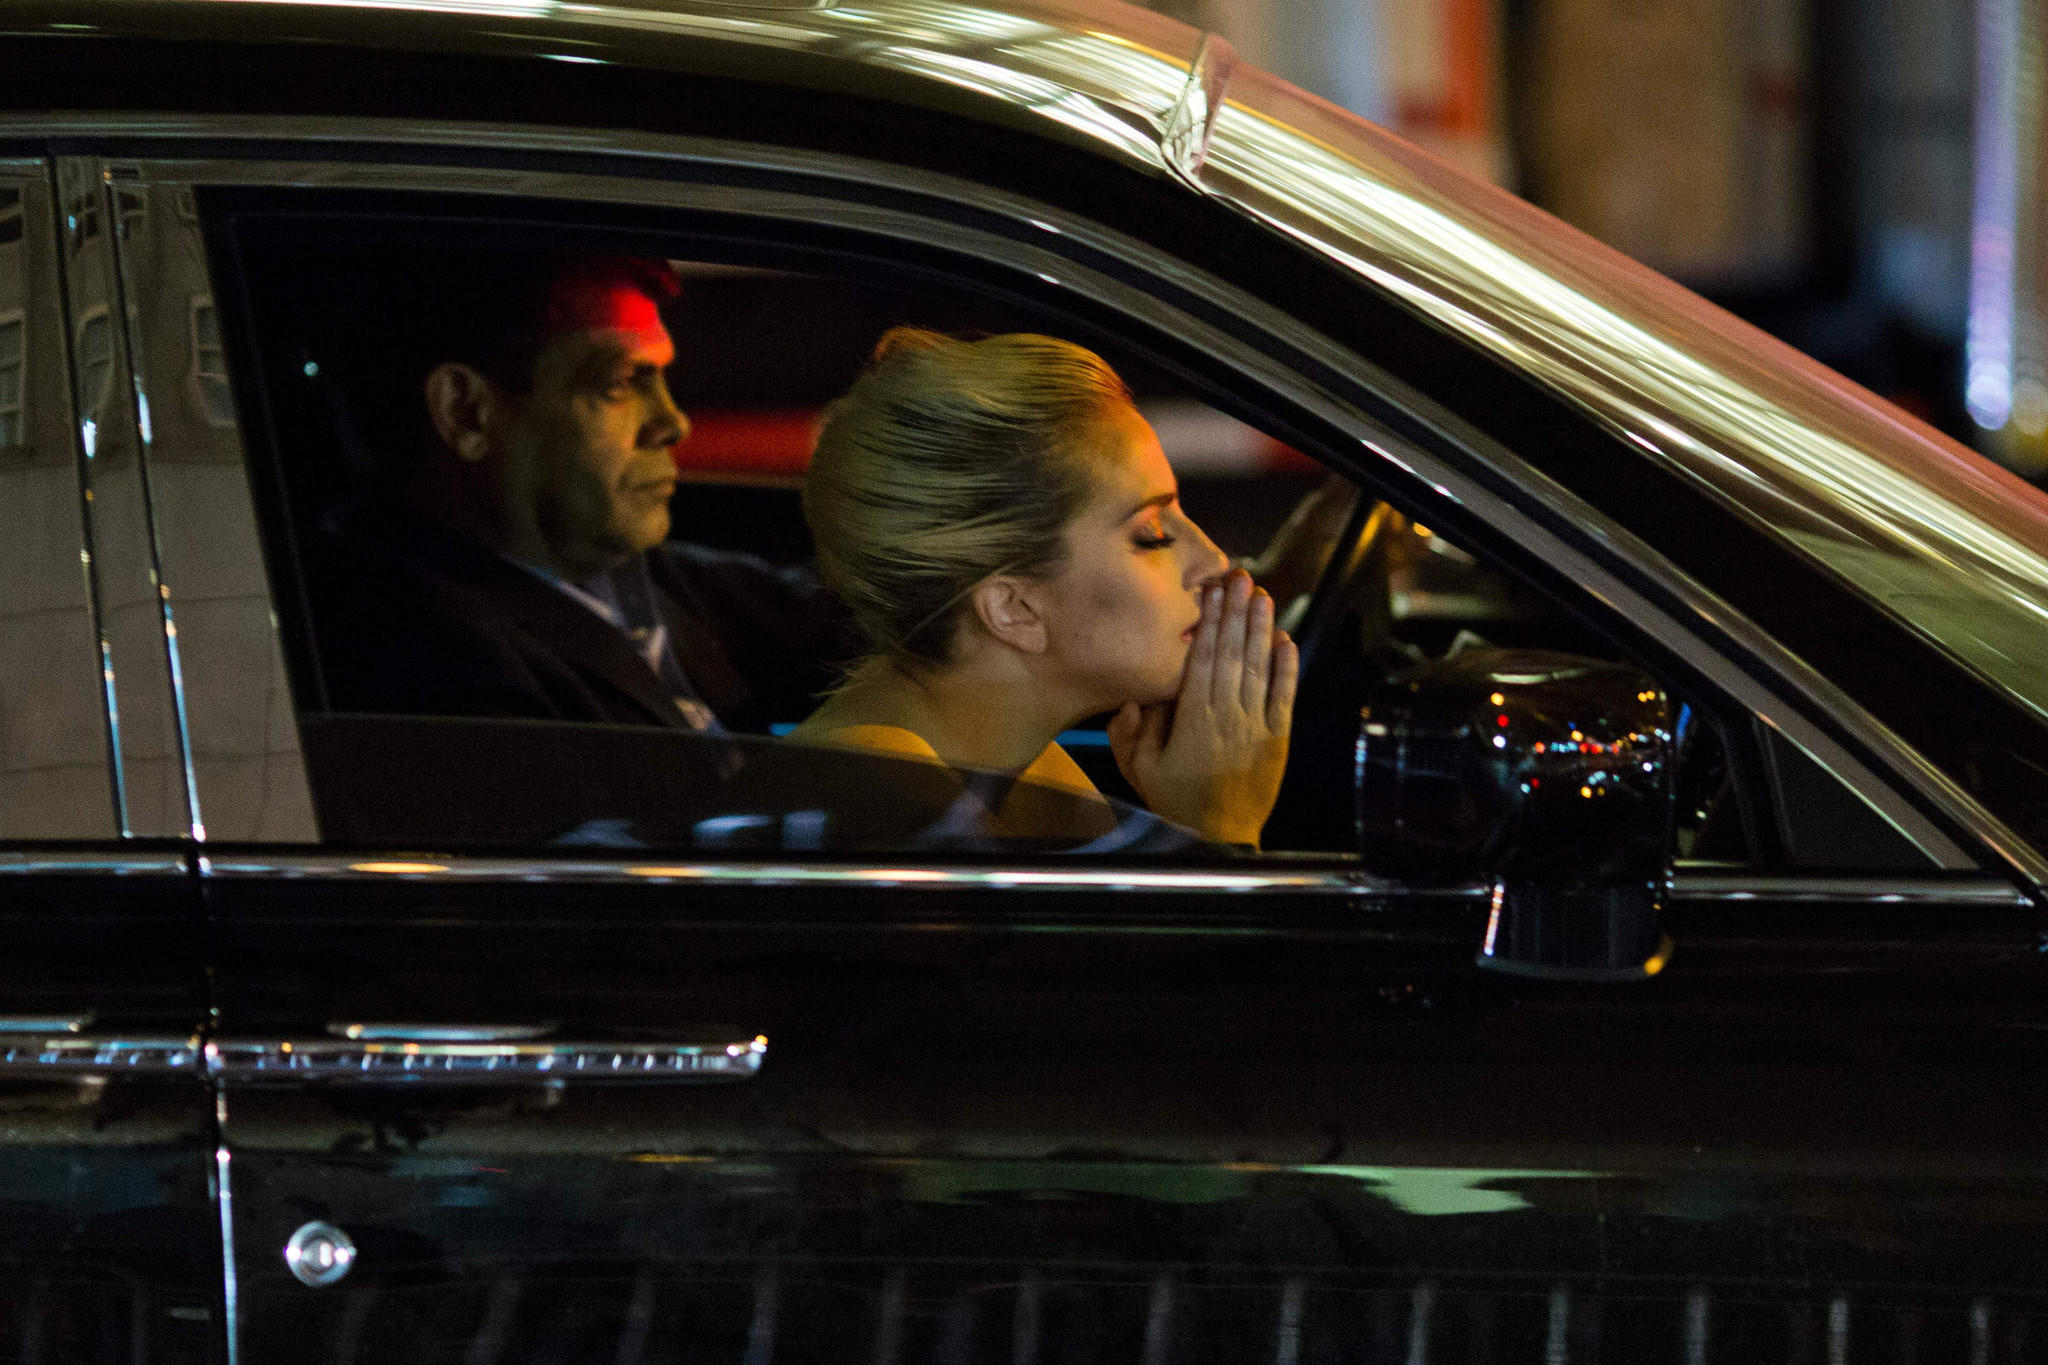sad: (934, 420, 1257, 741)
